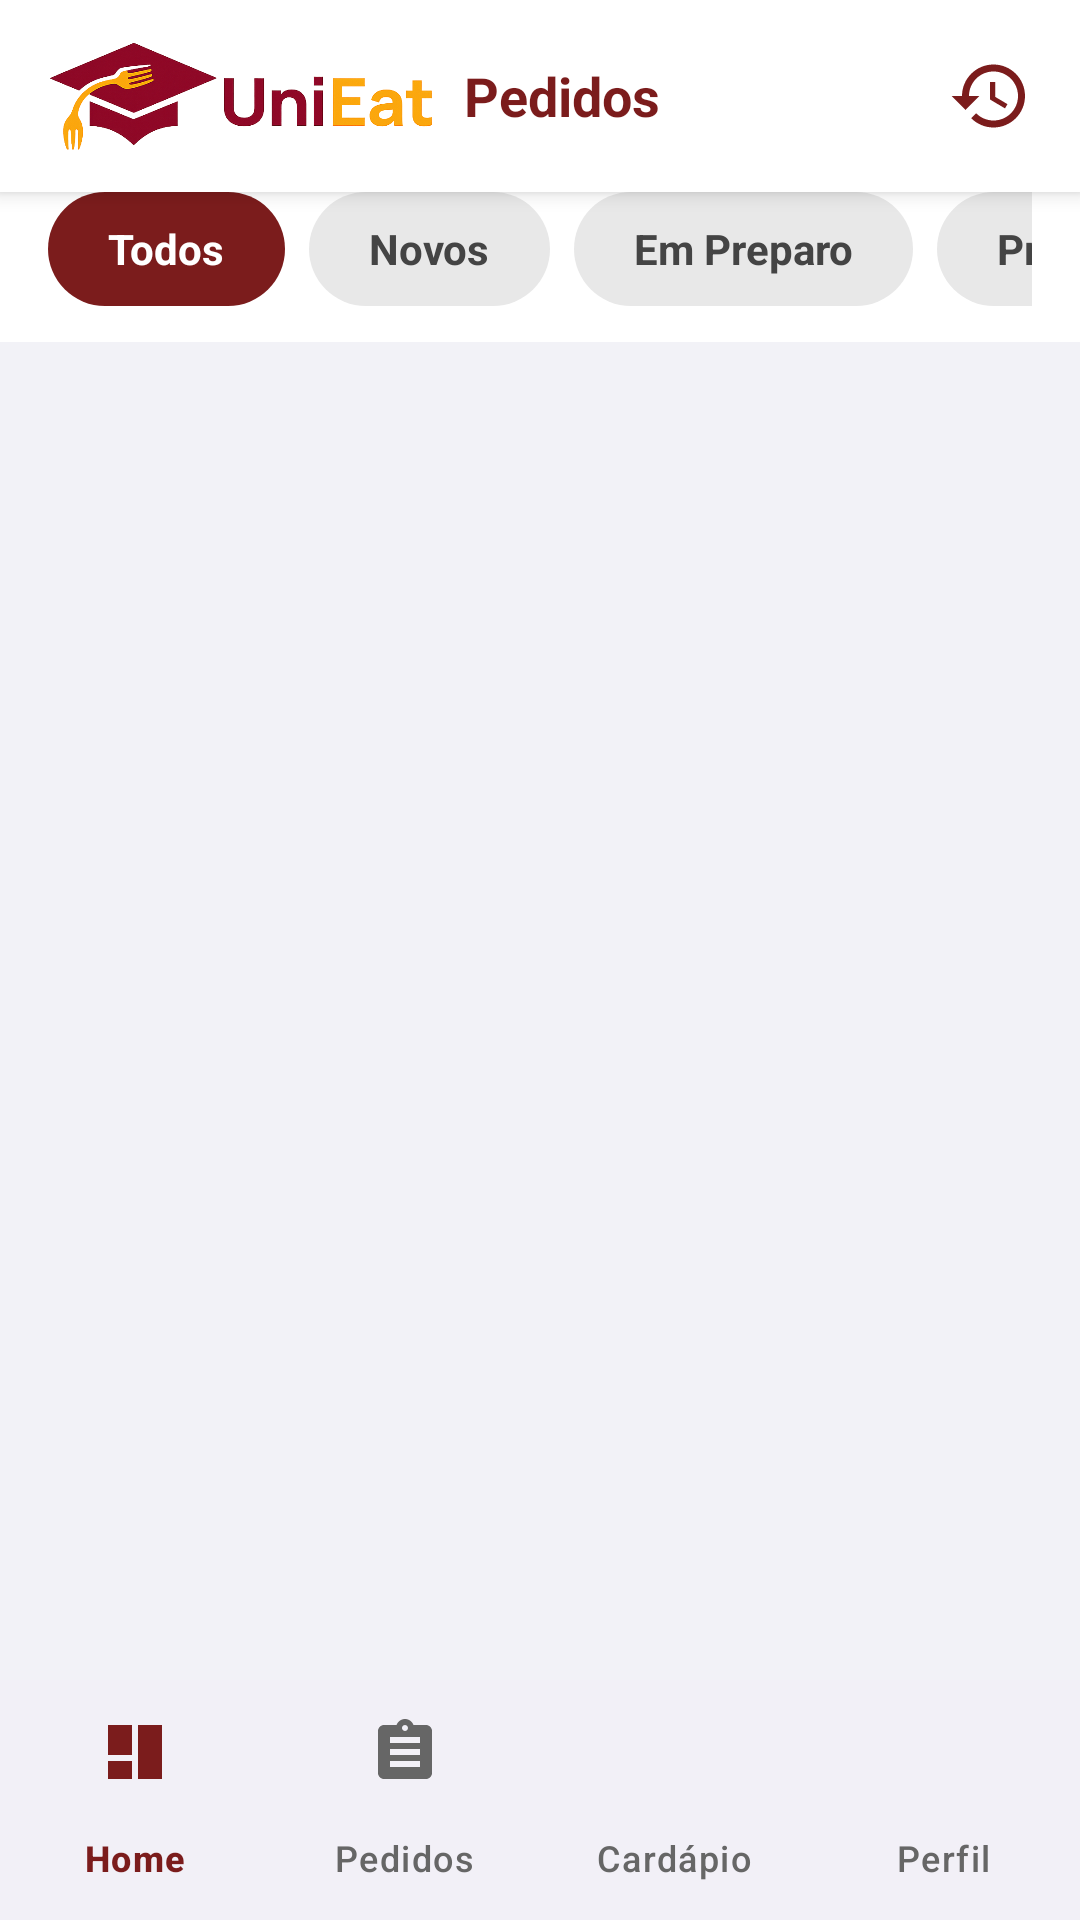

Where icons sit on this 1080*1920 app screen, as [left=x1, top=y1, right=x2, bottom=y2]:
historico: [left=952, top=64, right=1025, bottom=128]
